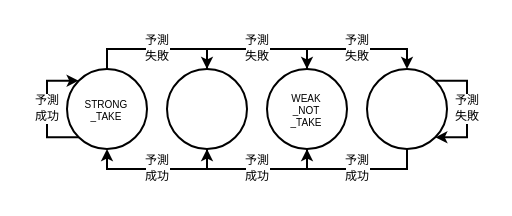
The diagram is 512 pixels wide and 216 high, and some of its shapes have lost their labels. Each missing label, with the box of its shape:
STRONG _NOT _TAKE: (365, 67, 447, 149)
WEAK _TAKE: (165, 67, 247, 149)
